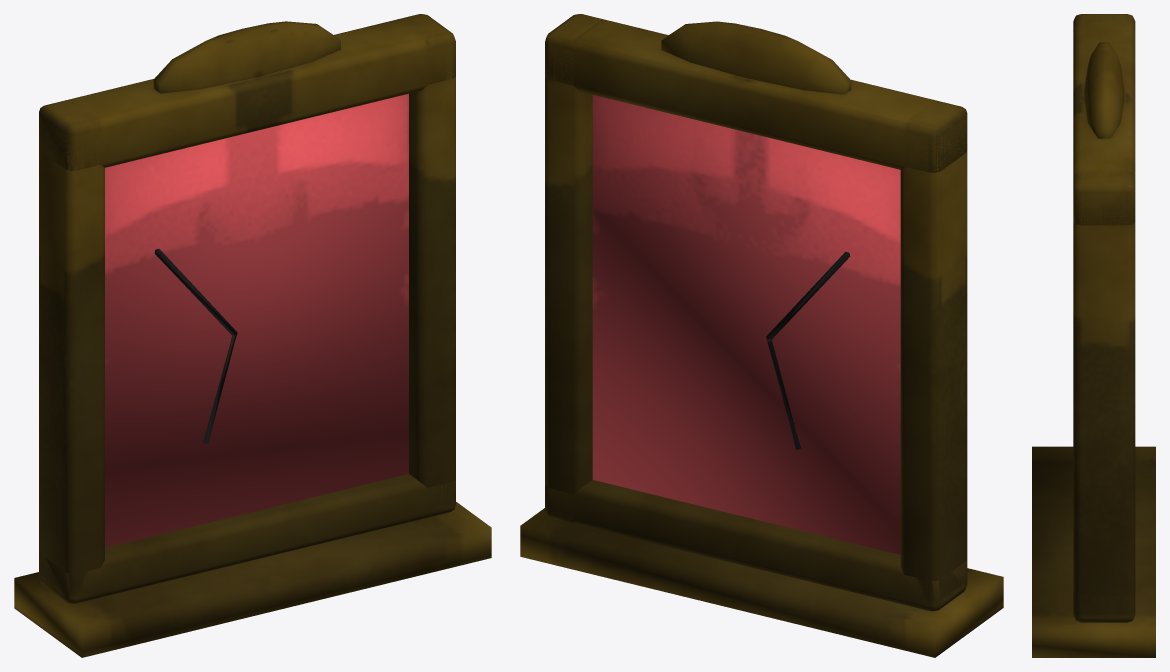
File: court_mirror.obj
3 views of the same model, side by side, from view 1: azimuth 30°, elevation 25°; view 2: azimuth 150°, elevation 25°; view 3: azimuth 270°, elevation 25° (orthographic). The views are drawn at different scales.
Visible parts, largest first — view 1: part0, fire, part2; view 2: part0, fire, part2; view 3: part0.
Boxes of the visible parts, left/top/right/bottom form: part0: left=14, top=14, right=491, bottom=657; fire: left=105, top=93, right=408, bottom=547; part2: left=154, top=248, right=237, bottom=444; part0: left=520, top=14, right=1003, bottom=657; fire: left=592, top=95, right=900, bottom=554; part2: left=766, top=251, right=850, bottom=449; part0: left=1032, top=14, right=1155, bottom=657.
Bounding box in the file's own units: 0.84 × 1.08 × 0.24.
